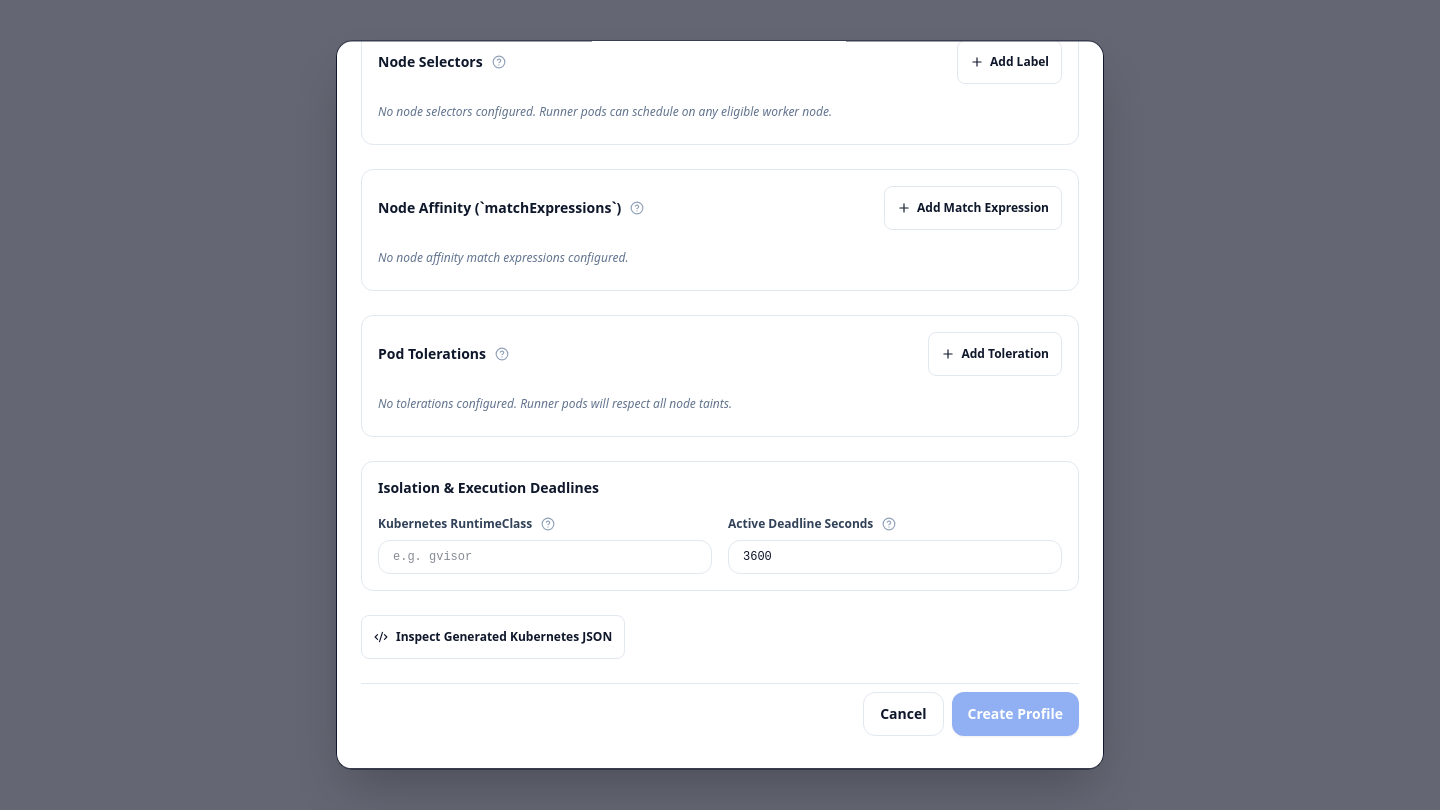
Test: Runner Profiles View & Builder › ProfileBuilderDialog › toggles live Kubernetes JSON payload inspection
(page scrolled)
Click the button "Inspect Generated Kubernetes JSON".
click(493, 637)  # box [361,615,625,659]
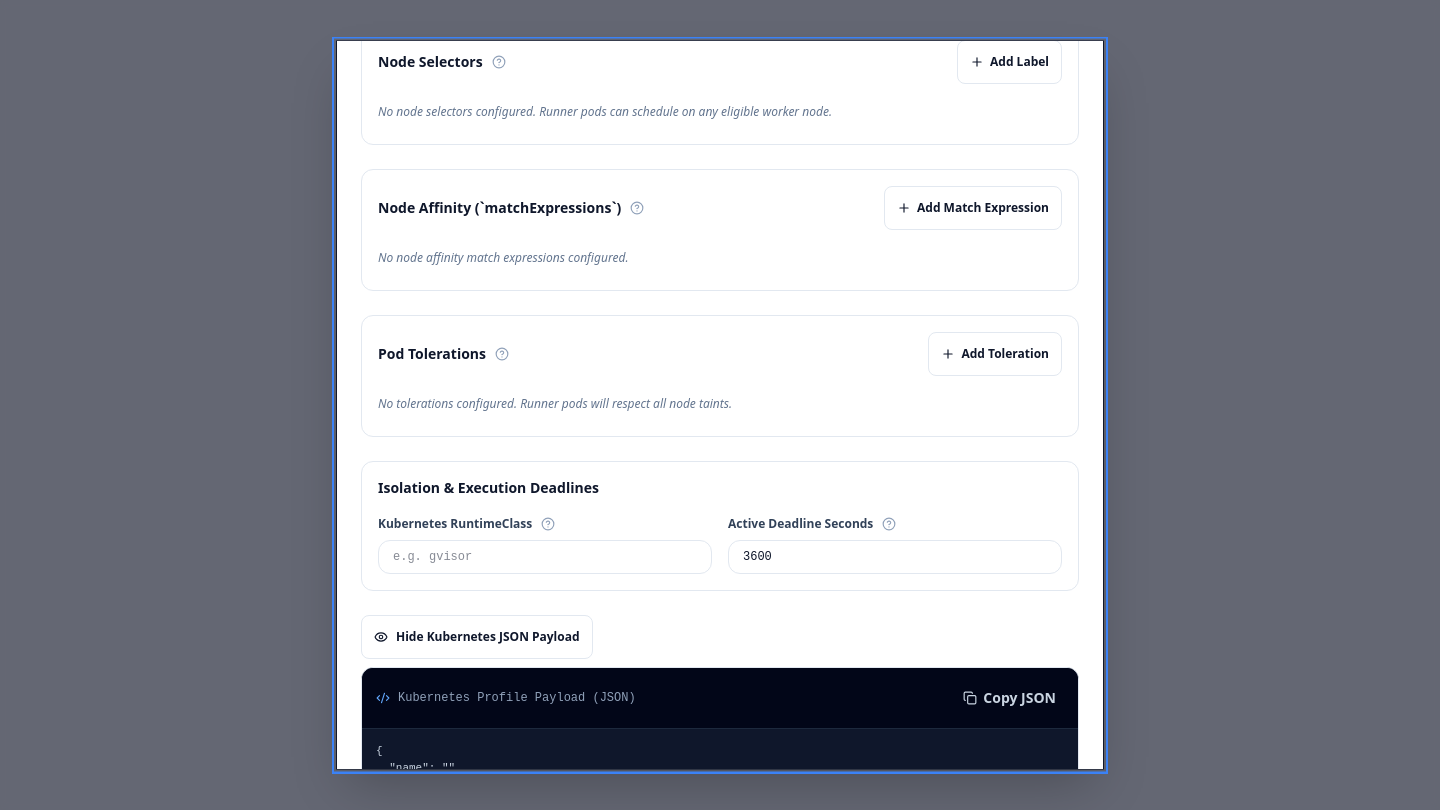
Check: the text "Kubernetes Profile Payload (JSON)" is shown, box [398,690,636,706]
Check: the text "Copy JSON" is shown, box [983,688,1056,708]
